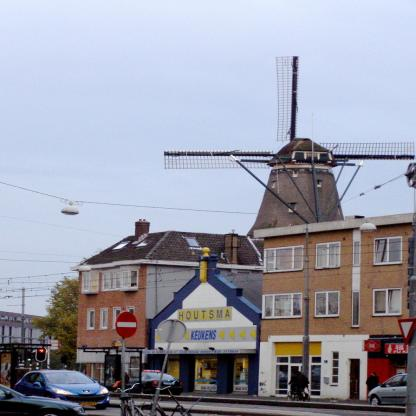Car: (14, 368, 112, 411), (1, 384, 89, 416), (108, 369, 186, 395), (366, 370, 410, 407)
